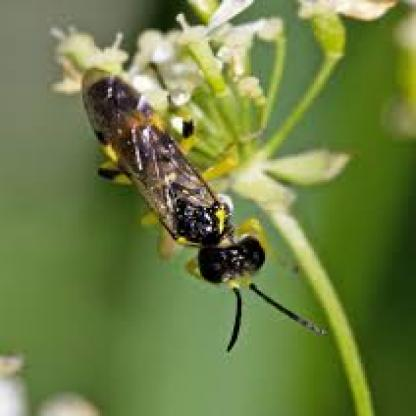sawfly: (75, 63, 332, 350)
